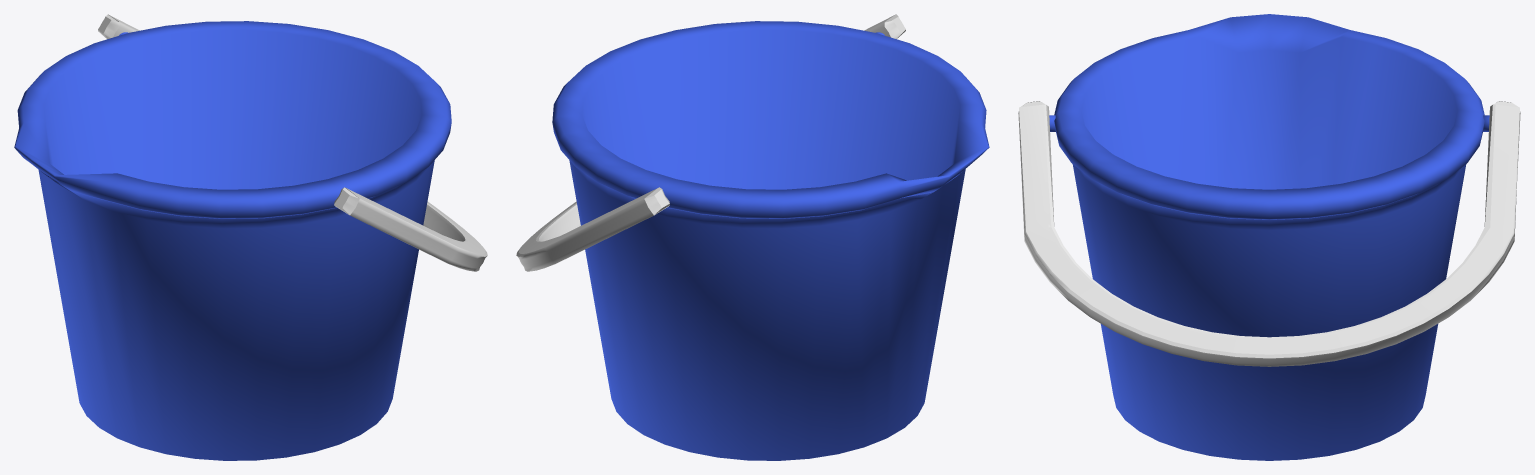
The model's file is BUCKET.fbx.
3 views of the same model, side by side, from view 1: azimuth 30°, elevation 25°; view 2: azimuth 150°, elevation 25°; view 3: azimuth 270°, elevation 25° (orthographic).
Parts seen in each view (by area): view 1: Cylinder, Torus; view 2: Cylinder, Torus; view 3: Cylinder, Torus.
Part boxes in pixels (box(x1,y1,x2,y2)): Cylinder: box(14, 21, 451, 460); Torus: box(98, 14, 487, 271); Cylinder: box(552, 21, 989, 460); Torus: box(516, 14, 905, 271); Cylinder: box(1049, 14, 1489, 460); Torus: box(1018, 101, 1520, 366).
Size of the model in its own units: 298 by 205 by 321.
